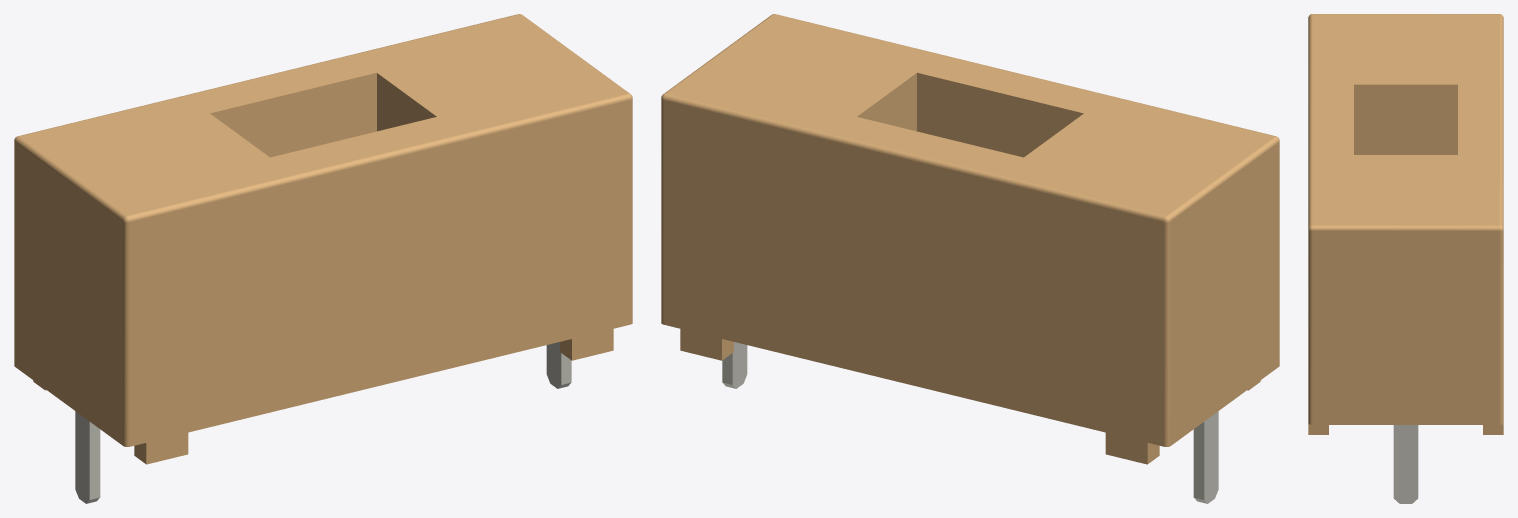
File: kc-fuseholder_cylinder-5x20mm_stelvio-kontek_ptf78_horizontal_open.glb
The picture shows the model from 3 angles, left to right: view 1: azimuth 30°, elevation 25°; view 2: azimuth 150°, elevation 25°; view 3: azimuth 270°, elevation 25°; orthographic projection. The views are drawn at different scales.
Parts seen in each view (by area): view 1: 0.75_0.5_0.16666666666666666_0.9, 0.6666666666666666_0.6666666666666666_0.5833333333333334_0.8; view 2: 0.75_0.5_0.16666666666666666_0.9, 0.6666666666666666_0.6666666666666666_0.5833333333333334_0.8; view 3: 0.75_0.5_0.16666666666666666_0.9, 0.6666666666666666_0.6666666666666666_0.5833333333333334_0.8.
Boxes of the visible parts, <box> form: 0.75_0.5_0.16666666666666666_0.9: <box>14,14,632,464</box>; 0.6666666666666666_0.6666666666666666_0.5833333333333334_0.8: <box>75,342,571,503</box>; 0.75_0.5_0.16666666666666666_0.9: <box>661,14,1279,464</box>; 0.6666666666666666_0.6666666666666666_0.5833333333333334_0.8: <box>722,342,1218,503</box>; 0.75_0.5_0.16666666666666666_0.9: <box>1308,14,1503,434</box>; 0.6666666666666666_0.6666666666666666_0.5833333333333334_0.8: <box>1393,425,1418,503</box>.
Size of the model in its own units: 2.44 by 1.5 by 0.9401.
